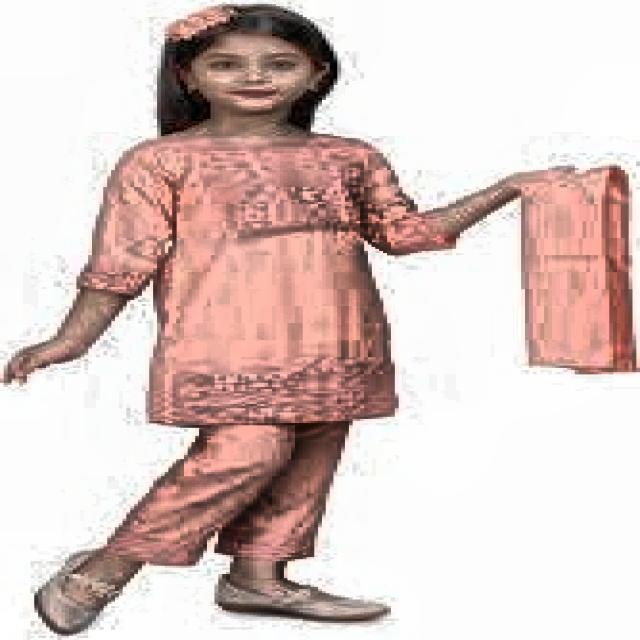Human: (36, 14, 556, 623)
